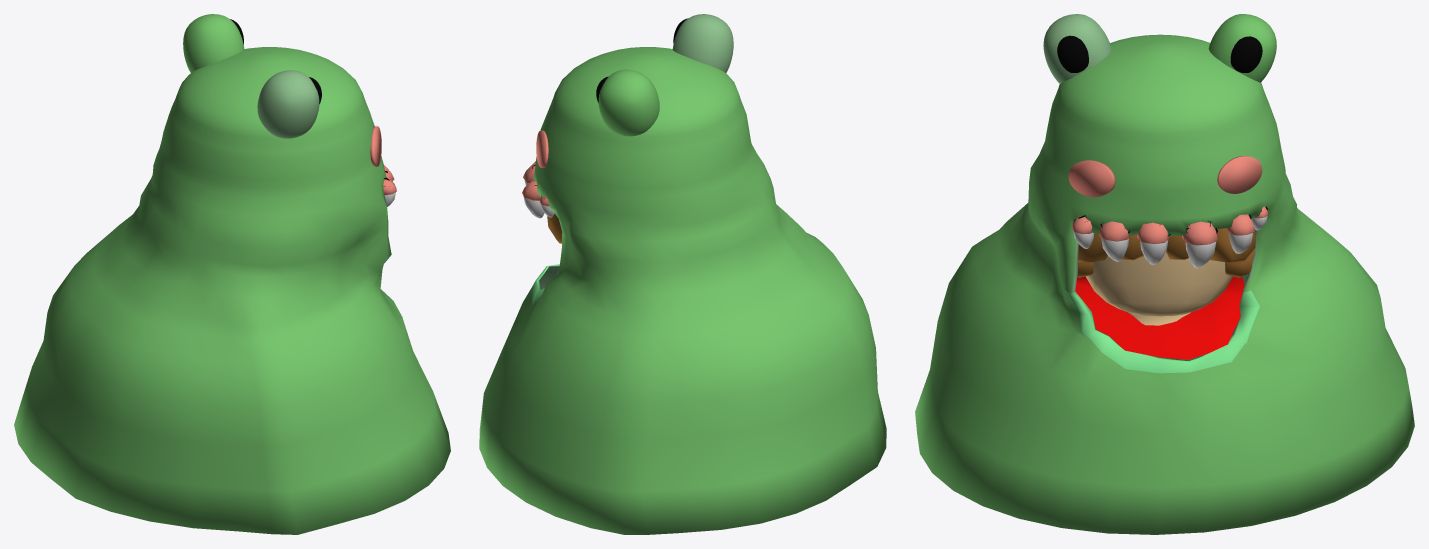
File: VTuberModelv4Clean.glb
3 renders of one model, left to right at view 1: azimuth 30°, elevation 25°; view 2: azimuth 150°, elevation 25°; view 3: azimuth 270°, elevation 25°, orthographic. The views are drawn at different scales.
Visible parts, largest first — view 1: HoodieHeadv4; view 2: HoodieHeadv4; view 3: HoodieHeadv4.
Boxes of the visible parts, box(x1,y1,x2,y2) form: HoodieHeadv4: box(14, 14, 450, 534); HoodieHeadv4: box(479, 14, 886, 534); HoodieHeadv4: box(915, 14, 1414, 534).
Size of the model in its own units: 2.03 by 2.12 by 2.23.
